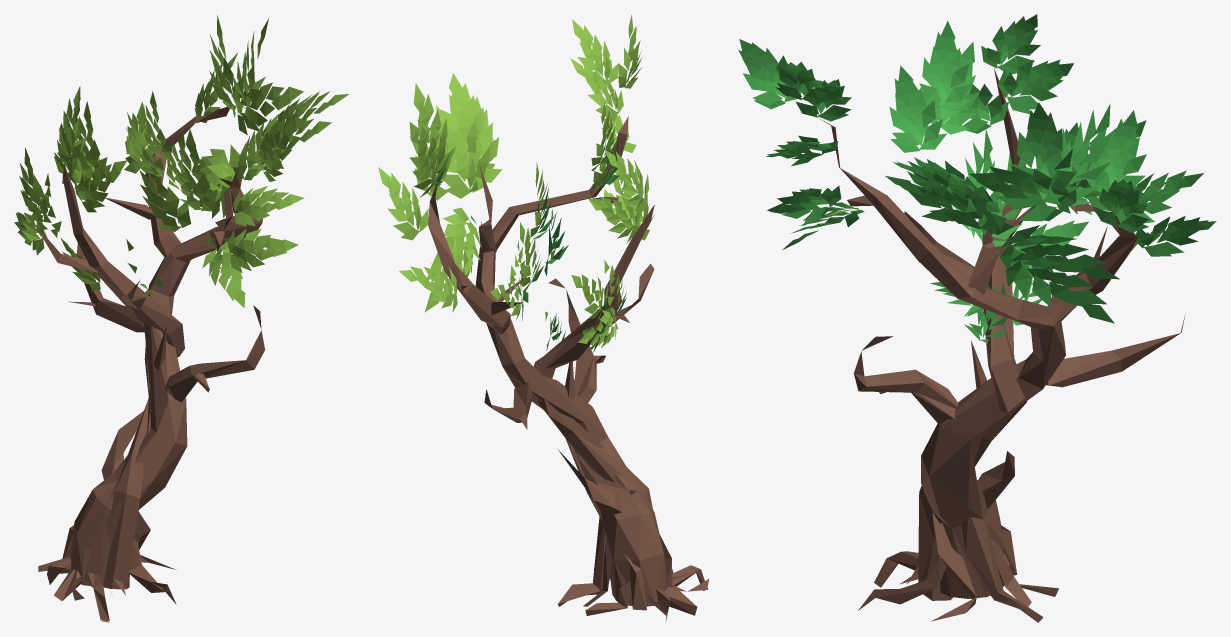
The model's file is big-tree.glb.
3 views of the same model, side by side, from view 1: azimuth 30°, elevation 25°; view 2: azimuth 150°, elevation 25°; view 3: azimuth 270°, elevation 25° (orthographic). The views are drawn at different scales.
Visible parts, largest first — view 1: group1406566609; view 2: group1406566609; view 3: group1406566609.
Part boxes in pixels (bbox=[...]): group1406566609: bbox=[14, 15, 348, 622]; group1406566609: bbox=[378, 14, 709, 621]; group1406566609: bbox=[738, 14, 1216, 622].
Size of the model in its own units: 1.33 by 2.38 by 1.64.
